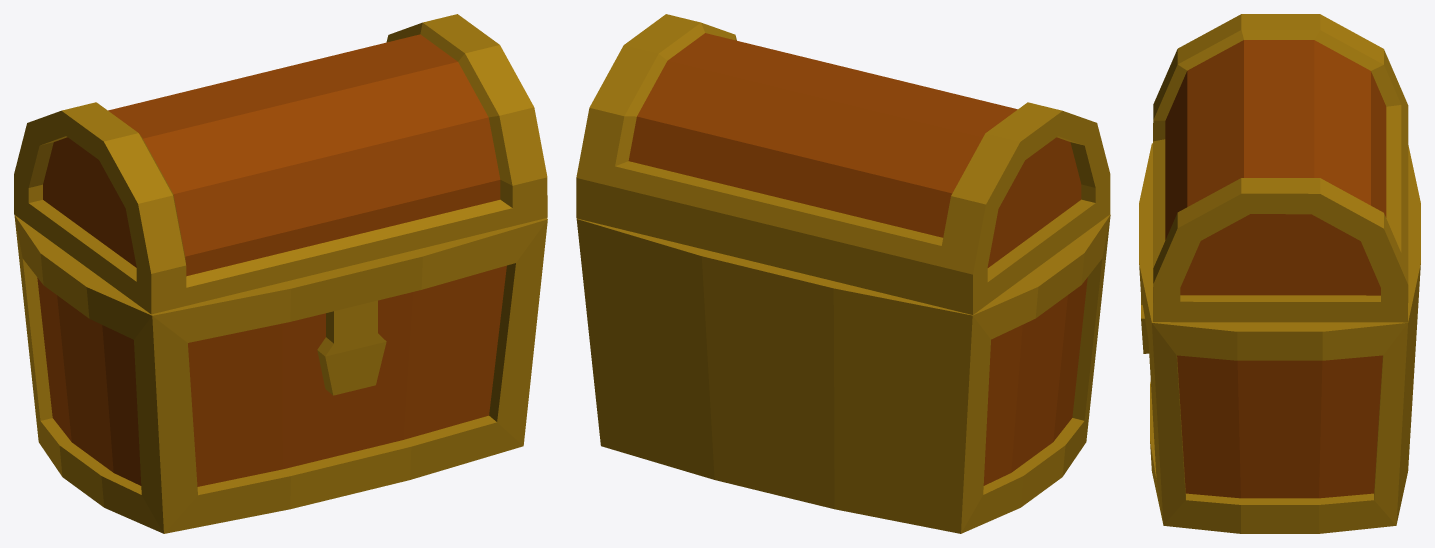
File: Chest.fbx
3 views of the same model, side by side, from view 1: azimuth 30°, elevation 25°; view 2: azimuth 150°, elevation 25°; view 3: azimuth 270°, elevation 25° (orthographic). The views are drawn at different scales.
Parts seen in each view (by area): view 1: Куб.029; view 2: Куб.029; view 3: Куб.029.
Boxes of the visible parts, bbox=[...] form: Куб.029: bbox=[14, 14, 547, 533]; Куб.029: bbox=[576, 14, 1110, 533]; Куб.029: bbox=[1139, 14, 1420, 533].
Size of the model in its own units: 132 by 106 by 79.38.
